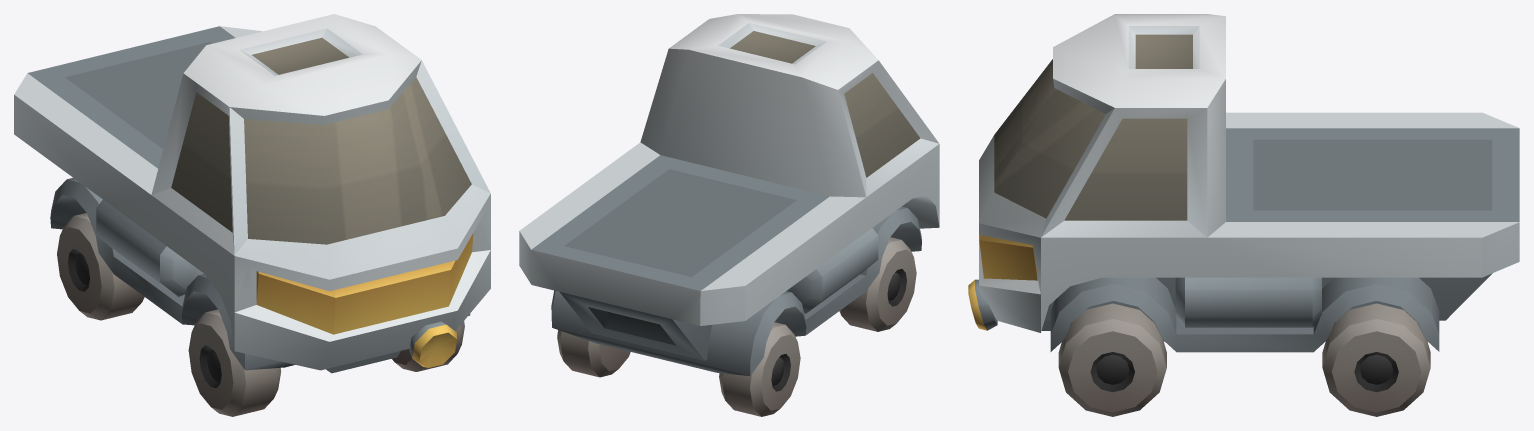
File: spacetruck.gltf
3 views of the same model, side by side, from view 1: azimuth 30°, elevation 25°; view 2: azimuth 150°, elevation 25°; view 3: azimuth 270°, elevation 25° (orthographic). The views are drawn at different scales.
Parts seen in each view (by area): view 1: spacetruck, spacetruck_wheel_front_right, spacetruck_wheel_rear_right, spacetruck_wheel_front_left; view 2: spacetruck, spacetruck_wheel_rear_right, spacetruck_wheel_front_right, spacetruck_wheel_rear_left; view 3: spacetruck, spacetruck_wheel_front_left, spacetruck_wheel_rear_left.
Part boxes in pixels (box(x1,y1,x2,y2)): spacetruck: box(14, 14, 490, 373); spacetruck_wheel_front_right: box(188, 309, 281, 416); spacetruck_wheel_rear_right: box(57, 213, 144, 320); spacetruck_wheel_front_left: box(392, 321, 464, 371); spacetruck: box(519, 14, 939, 375); spacetruck_wheel_rear_right: box(719, 322, 800, 416); spacetruck_wheel_front_right: box(839, 237, 916, 331); spacetruck_wheel_rear_left: box(557, 330, 630, 377); spacetruck: box(968, 14, 1519, 352); spacetruck_wheel_front_left: box(1058, 303, 1166, 416); spacetruck_wheel_rear_left: box(1322, 303, 1430, 416).
Size of the model in its own units: 0.4895 by 0.5662 by 0.8933.
Materials: 1 (1 with a texture image).
